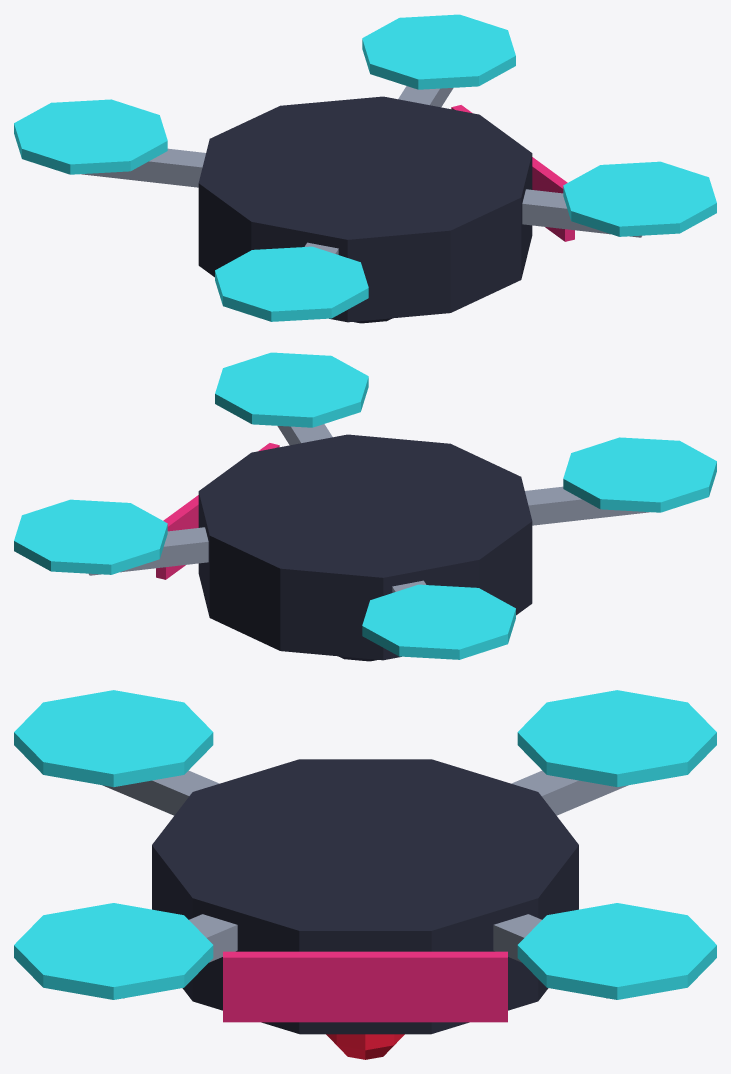
The model's file is drone.glb.
3 renders of one model, top to bottom at view 1: azimuth 30°, elevation 25°; view 2: azimuth 150°, elevation 25°; view 3: azimuth 270°, elevation 25°, orthographic. The views are drawn at different scales.
Visible parts, largest first — view 1: p_cyl.054, p_cyl.056, p_cyl.055, p_cyl.057, p_cyl.058, p_box.916, p_box.918, p_box.919, p_box.915; view 2: p_cyl.054, p_cyl.057, p_cyl.058, p_cyl.055, p_cyl.056, p_box.917, p_box.915, p_box.919, p_box.918; view 3: p_cyl.054, p_box.919, p_cyl.056, p_cyl.057, p_cyl.055, p_cyl.058, p_box.916, p_box.917, p_sph.323, p_box.915, p_box.918.
Boxes of the visible parts, x1=… form: p_cyl.054: x1=198, y1=96, x2=532, y2=322; p_cyl.056: x1=14, y1=99, x2=167, y2=174; p_cyl.055: x1=362, y1=14, x2=515, y2=89; p_cyl.057: x1=215, y1=246, x2=368, y2=321; p_cyl.058: x1=563, y1=161, x2=716, y2=236; p_box.916: x1=81, y1=148, x2=205, y2=187; p_box.918: x1=522, y1=189, x2=641, y2=237; p_box.919: x1=451, y1=105, x2=574, y2=241; p_box.915: x1=398, y1=86, x2=453, y2=107; p_cyl.054: x1=198, y1=434, x2=532, y2=660; p_cyl.057: x1=563, y1=437, x2=716, y2=512; p_cyl.058: x1=215, y1=352, x2=368, y2=427; p_cyl.055: x1=14, y1=499, x2=167, y2=574; p_cyl.056: x1=362, y1=584, x2=515, y2=659; p_box.917: x1=525, y1=486, x2=649, y2=525; p_box.915: x1=89, y1=527, x2=208, y2=575; p_box.919: x1=156, y1=443, x2=279, y2=579; p_box.918: x1=277, y1=424, x2=332, y2=445; p_cyl.054: x1=152, y1=759, x2=578, y2=1034; p_box.919: x1=223, y1=951, x2=507, y2=1022; p_cyl.056: x1=517, y1=690, x2=716, y2=787; p_cyl.057: x1=14, y1=690, x2=213, y2=787; p_cyl.055: x1=517, y1=903, x2=716, y2=999; p_cyl.058: x1=14, y1=903, x2=213, y2=999; p_box.916: x1=511, y1=770, x2=627, y2=815; p_box.917: x1=103, y1=770, x2=219, y2=815; p_sph.323: x1=326, y1=1034, x2=404, y2=1059; p_box.915: x1=493, y1=914, x2=607, y2=998; p_box.918: x1=123, y1=914, x2=237, y2=998.
Bounding box in the file's own units: 0.9871 × 0.29 × 0.9871.
